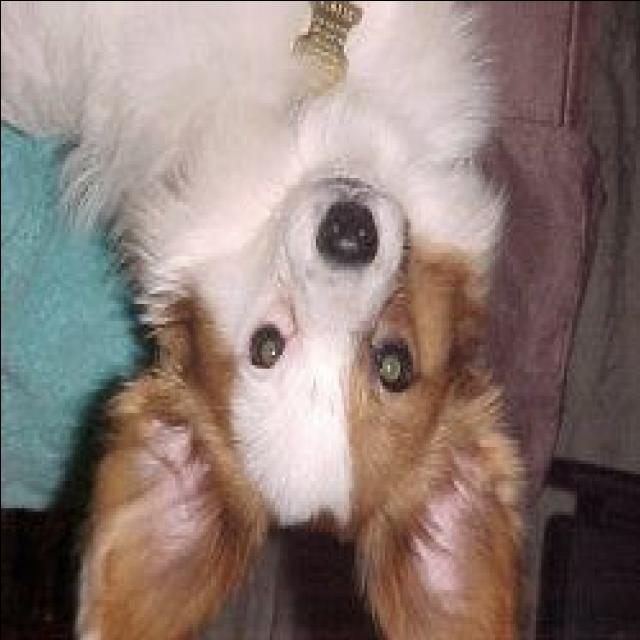papillon: (0, 3, 525, 640)
